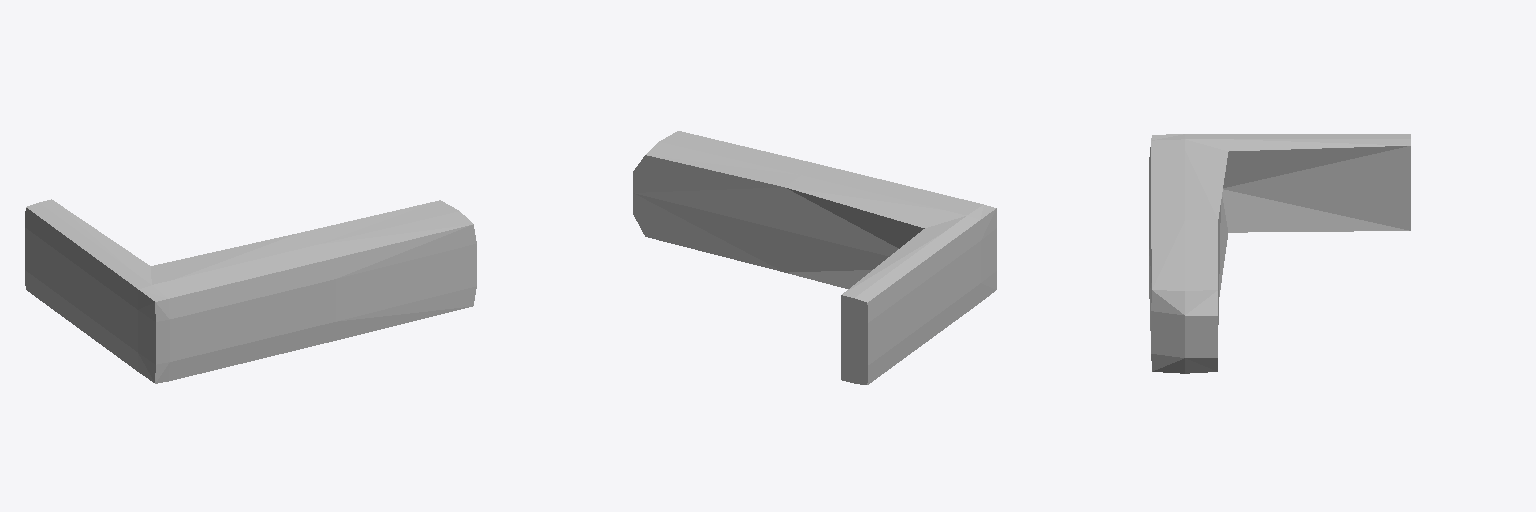
File: doorKnob2.obj
The picture shows the model from 3 angles: view 1: azimuth 30°, elevation 25°; view 2: azimuth 150°, elevation 25°; view 3: azimuth 270°, elevation 25°; orthographic projection.
Parts seen in each view (by area): view 1: 立方体; view 2: 立方体; view 3: 立方体.
Boxes of the visible parts, x1,y1,x2,y2 form: 立方体: [25, 199, 476, 383]; 立方体: [633, 131, 996, 384]; 立方体: [1149, 134, 1410, 373].
Bounding box in the file's own units: 1.22 × 0.3 × 0.8349.